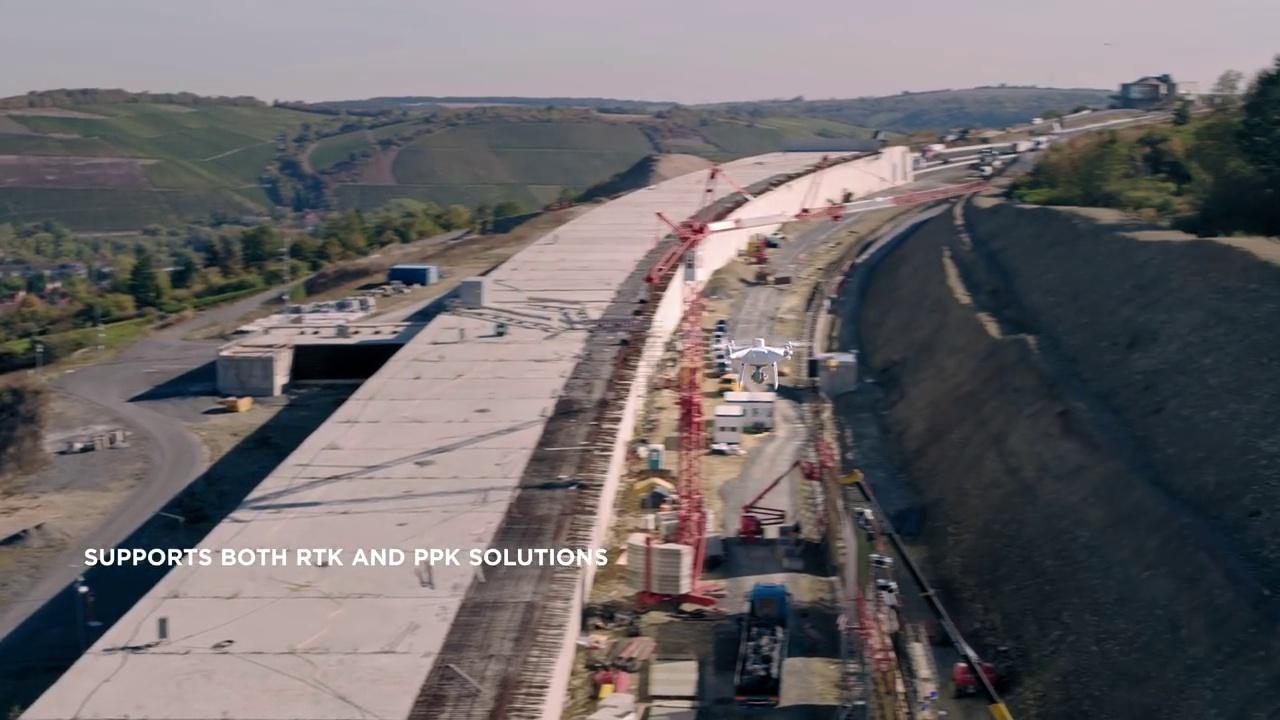drone: (708, 332, 813, 391)
